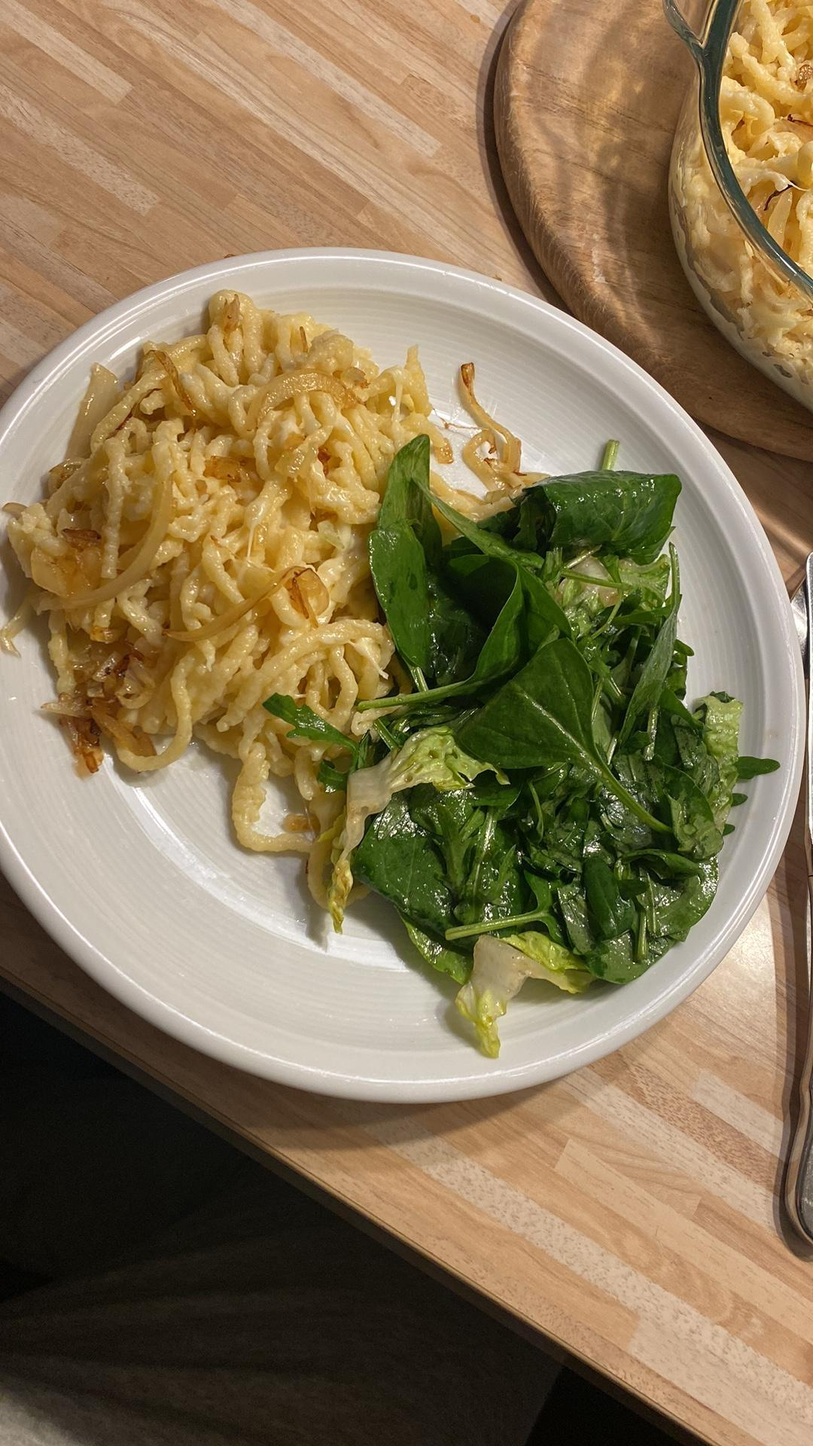lettuce: (465, 635, 695, 839), (570, 778, 721, 977), (352, 562, 542, 715), (361, 790, 544, 939), (373, 429, 452, 691), (448, 922, 590, 1052), (670, 695, 754, 888), (528, 559, 702, 635), (516, 469, 693, 542)
onion: (162, 569, 332, 644), (56, 672, 144, 772), (454, 357, 521, 478), (242, 368, 370, 416)
